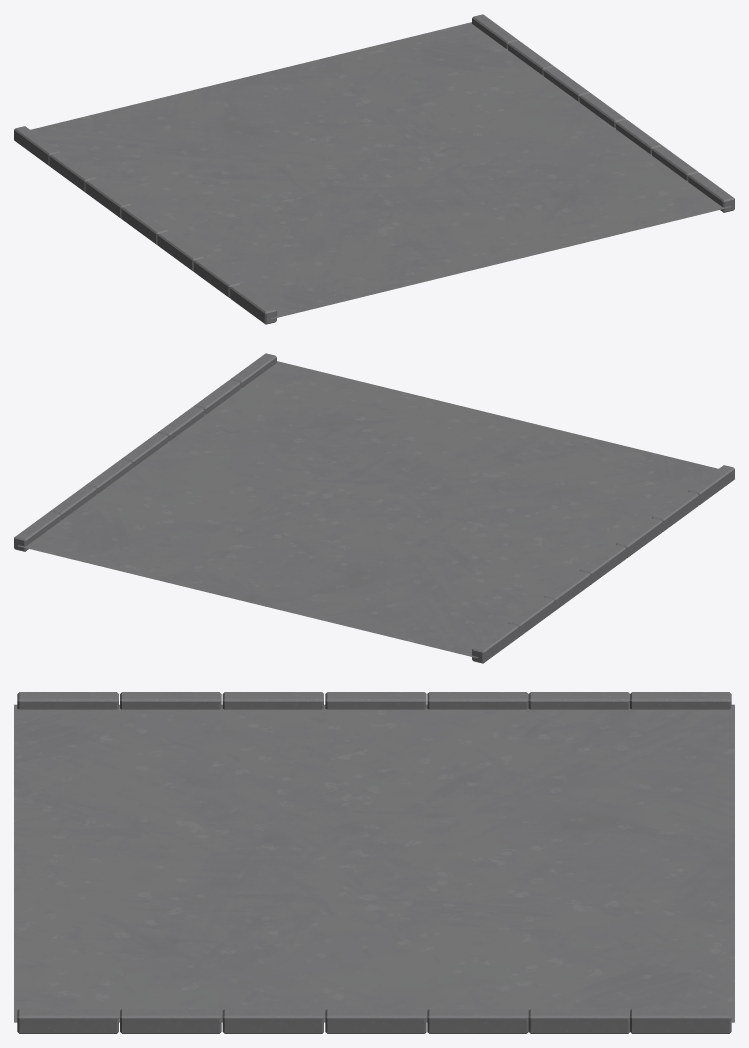
File: road_low.fbx
3 views of the same model, one above another, from view 1: azimuth 30°, elevation 25°; view 2: azimuth 150°, elevation 25°; view 3: azimuth 270°, elevation 25° (orthographic). The views are drawn at different scales.
Visible parts, largest first — view 1: road_low; view 2: road_low; view 3: road_low.
Boxes of the visible parts, x1=… form: road_low: x1=14, y1=14, x2=734, y2=324; road_low: x1=14, y1=353, x2=734, y2=663; road_low: x1=14, y1=692, x2=734, y2=1033.
Bounding box in the file's own units: 14.06 × 0.3668 × 13.18.
Materials: 1 (1 with a texture image).
